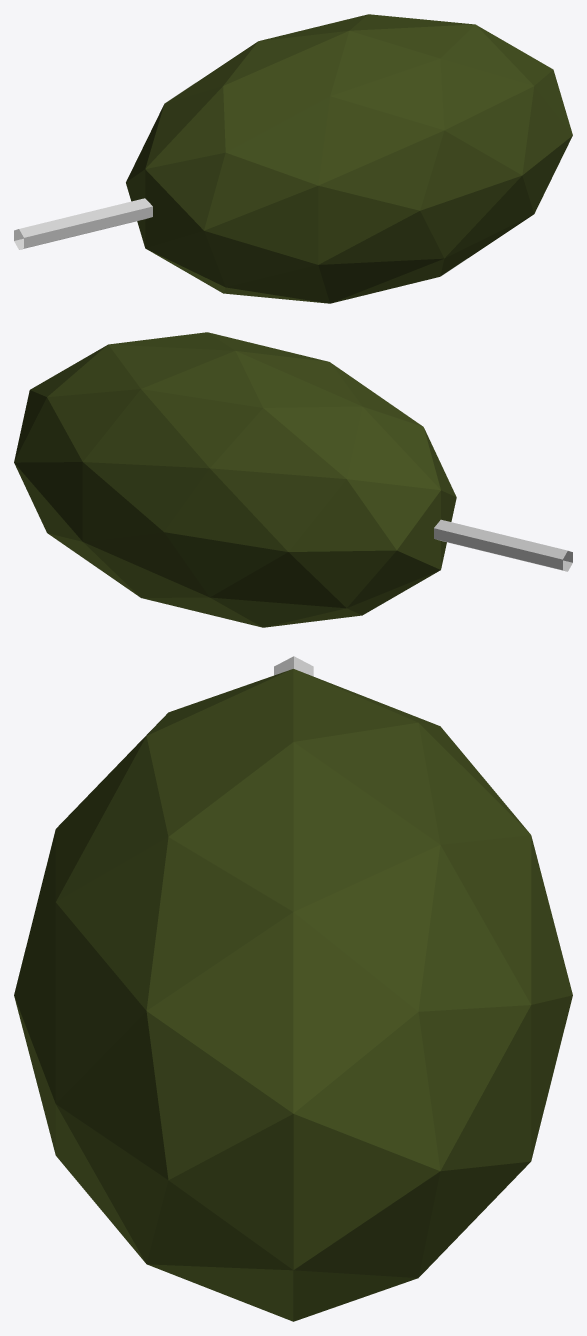
File: OliveFruit.obj
3 views of the same model, one above another, from view 1: azimuth 30°, elevation 25°; view 2: azimuth 150°, elevation 25°; view 3: azimuth 270°, elevation 25° (orthographic). The views are drawn at different scales.
Parts seen in each view (by area): view 1: fruit, pedicel; view 2: fruit, pedicel; view 3: fruit.
Part boxes in pixels (x1,y1,x2,y2): fruit: (126,14,572,303); pedicel: (14,198,152,249); fruit: (14,332,456,627); pedicel: (434,519,572,571); fruit: (14,669,572,1321).
Bounding box in the file's own units: 1.33 × 0.608 × 0.608.
